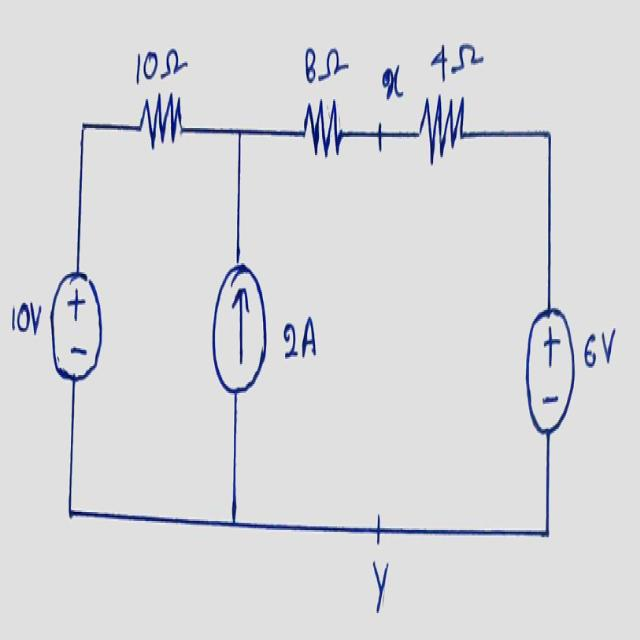current_source: (211, 257, 269, 403)
resistor: (414, 86, 467, 174), (136, 82, 188, 169), (298, 93, 347, 171)
voltage_source: (523, 294, 579, 446), (46, 267, 108, 390)
